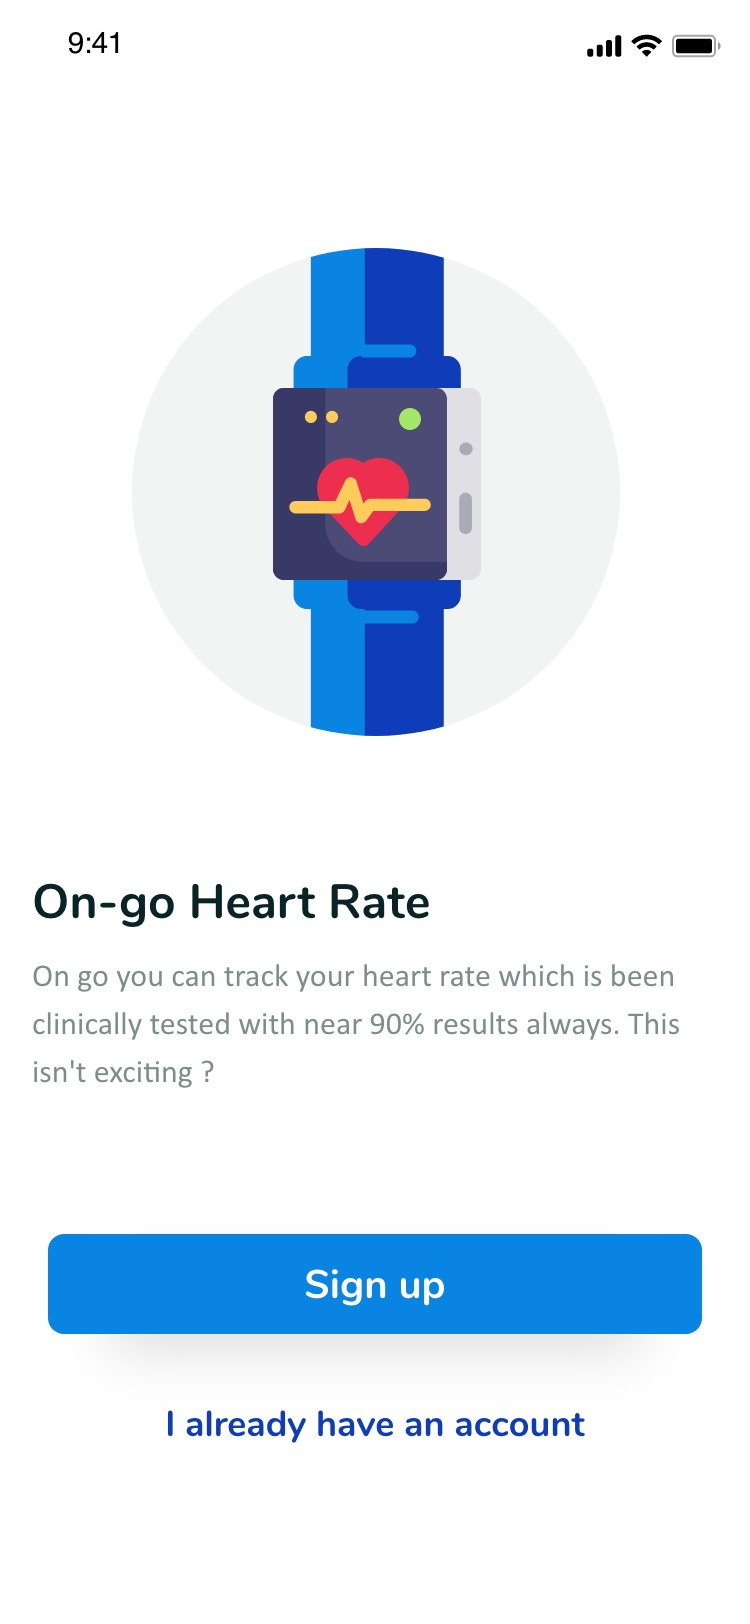Image: (132, 248, 621, 737)
Text: (33, 964, 680, 1089), (34, 883, 430, 929), (168, 1409, 586, 1444)
TextButton: (48, 1234, 703, 1335)
UpperTaskBar: (69, 32, 722, 60)
